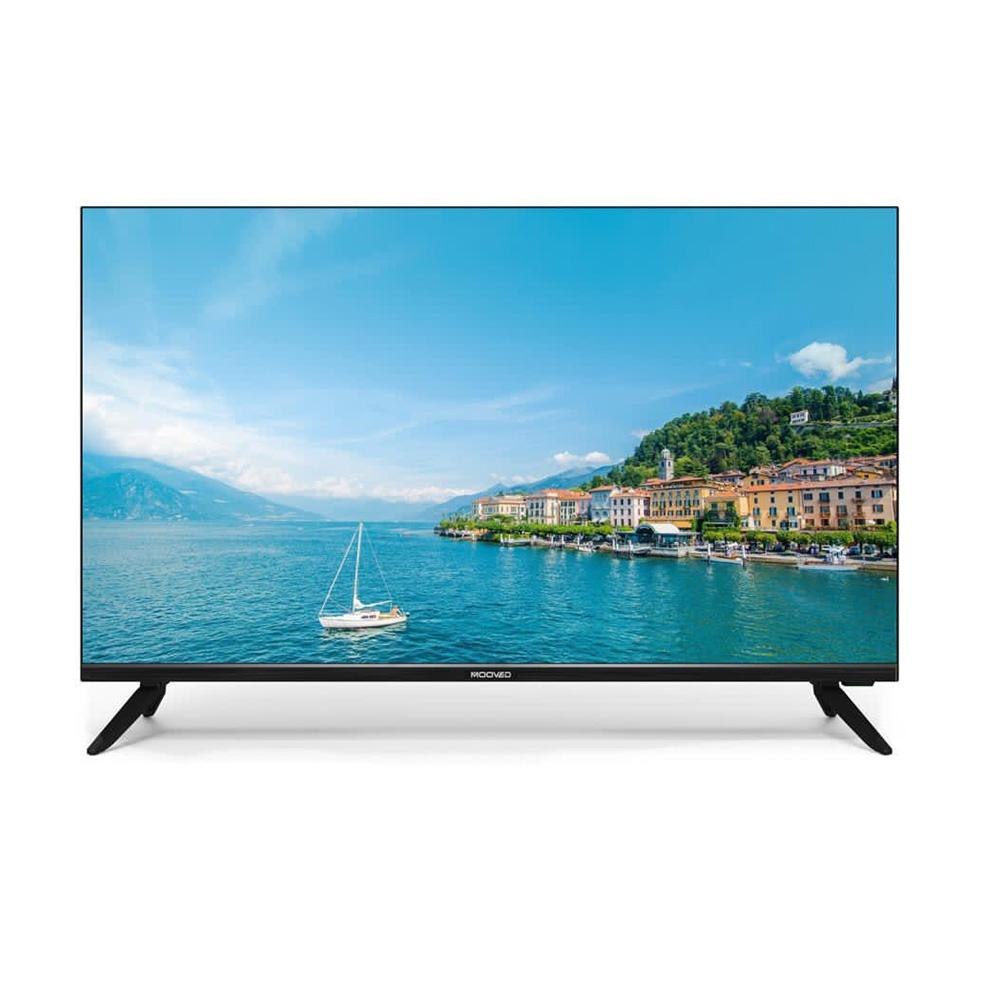tv: (41, 195, 917, 763)
